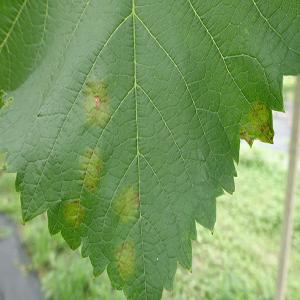Folha: (0, 0, 299, 298)
Fungo: (239, 100, 275, 148), (82, 78, 110, 128), (78, 147, 105, 193), (112, 183, 140, 224), (114, 237, 136, 282), (62, 199, 86, 228), (94, 95, 102, 110)
